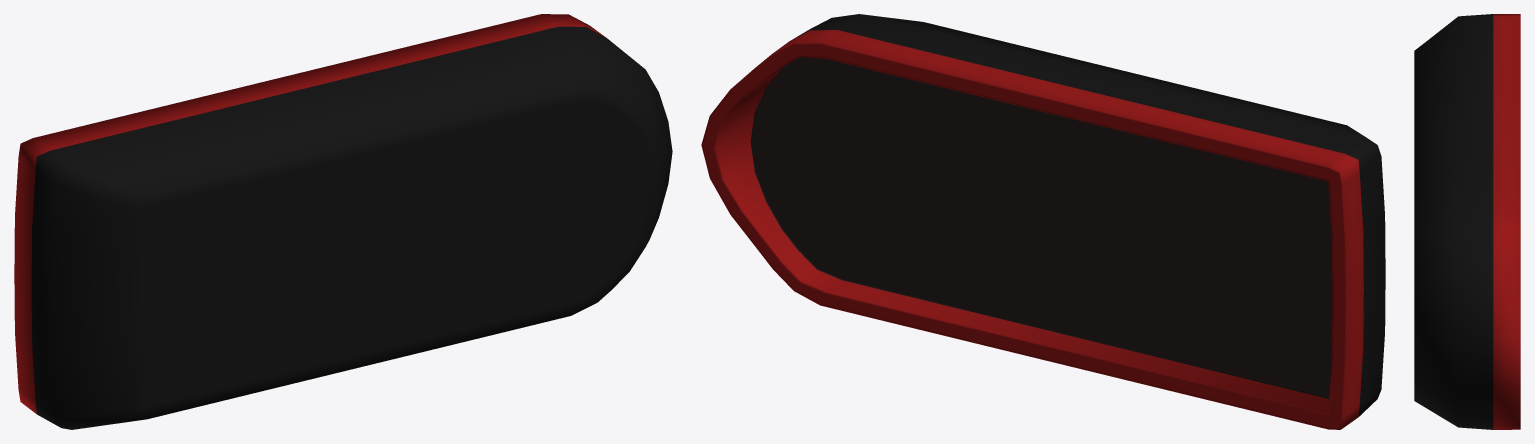
Rendered from Ship 1x4.fbx.
3 views of the same model, side by side, from view 1: azimuth 30°, elevation 25°; view 2: azimuth 150°, elevation 25°; view 3: azimuth 270°, elevation 25° (orthographic). The views are drawn at different scales.
Visible parts, largest first — view 1: Ship 1*4; view 2: Ship 1*4; view 3: Ship 1*4.
Boxes of the visible parts, box(x1,y1,x2,y2) form: Ship 1*4: box(14, 14, 672, 429); Ship 1*4: box(701, 14, 1385, 429); Ship 1*4: box(1414, 14, 1520, 429).
Bounding box in the file's own units: 809 × 144 × 315.
